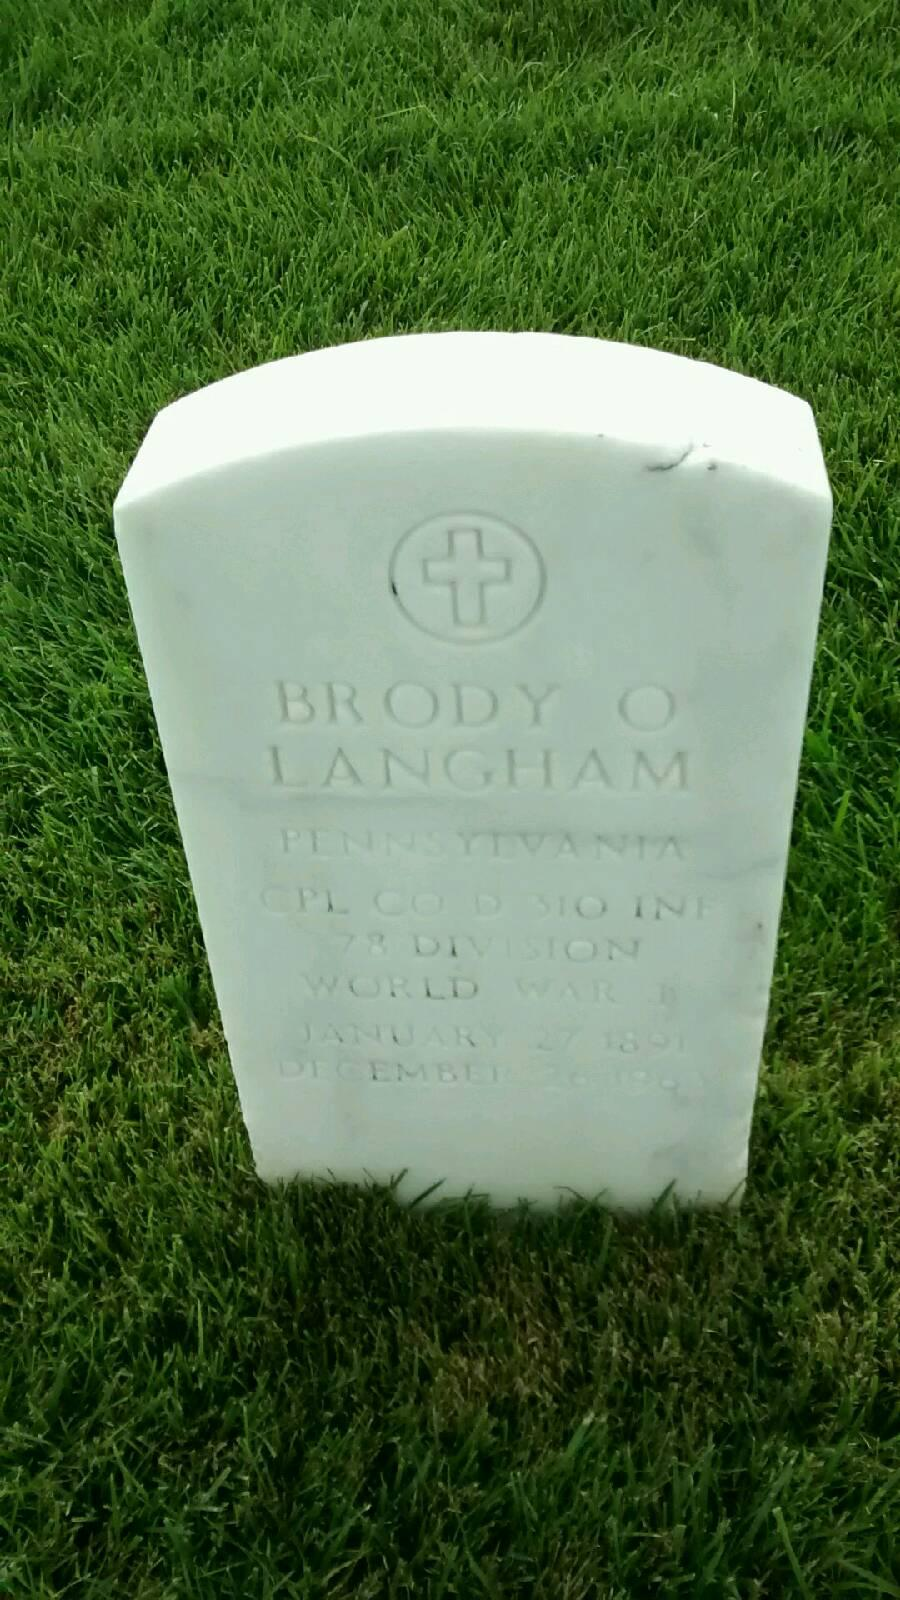military: (116, 331, 824, 1197)
